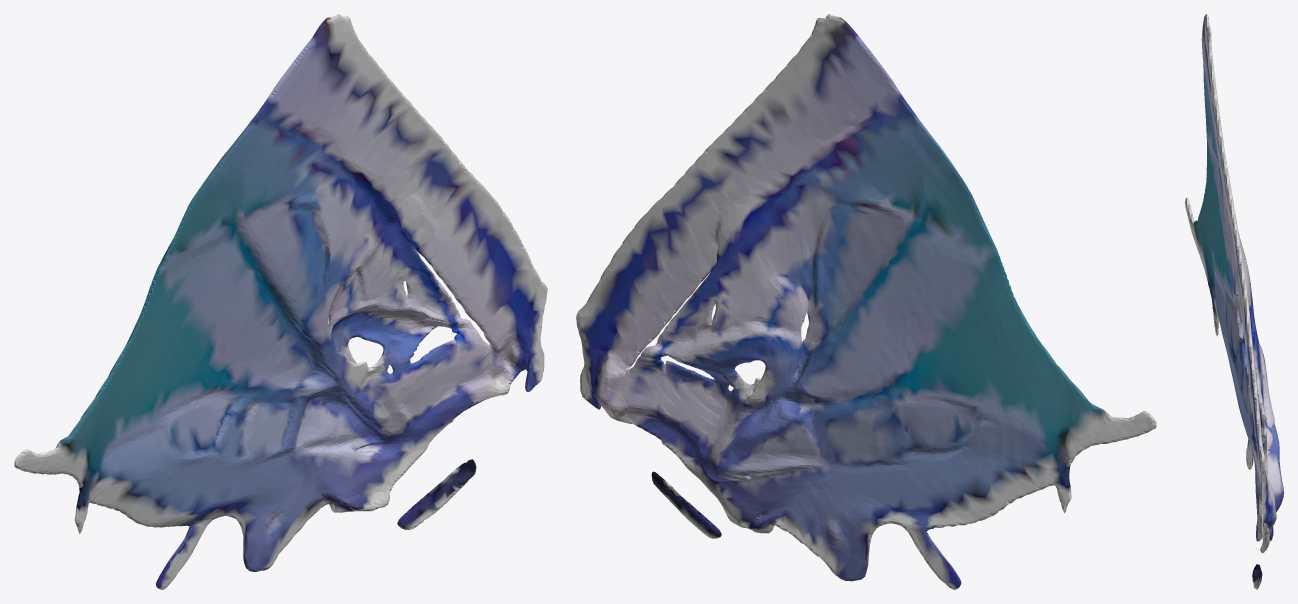
The model's file is lich_dust.glb.
3 renders of one model, left to right at view 1: azimuth 30°, elevation 25°; view 2: azimuth 150°, elevation 25°; view 3: azimuth 270°, elevation 25°, orthographic. The views are drawn at different scales.
Visible parts, largest first — view 1: geometry_0; view 2: geometry_0; view 3: geometry_0.
Part boxes in pixels (left/top/right/bottom): geometry_0: left=14, top=14, right=547, bottom=589; geometry_0: left=576, top=14, right=1156, bottom=589; geometry_0: left=1185, top=14, right=1283, bottom=589.
Size of the model in its own units: 0.595 by 0.5625 by 0.0947.
